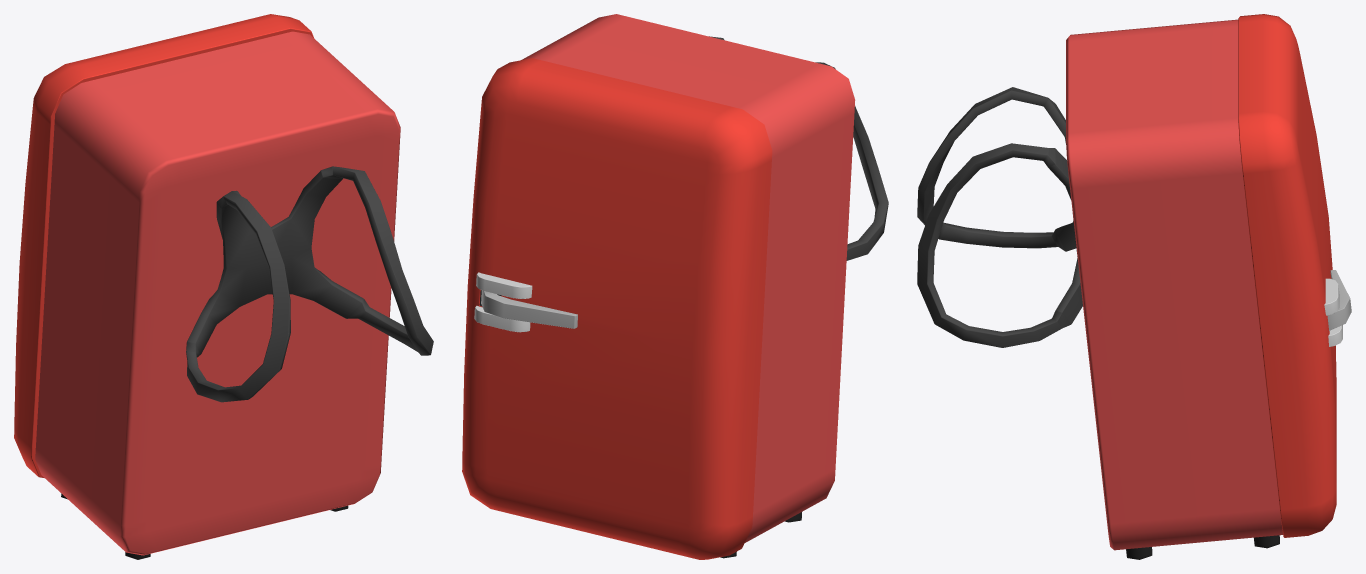
File: Backpack_021.glb
The picture shows the model from 3 angles, left to right: view 1: azimuth 30°, elevation 25°; view 2: azimuth 150°, elevation 25°; view 3: azimuth 270°, elevation 25°; orthographic projection.
Visible parts, largest first — view 1: Backpack_021; view 2: Backpack_021; view 3: Backpack_021.
Boxes of the visible parts, x1,y1,x2,y2 form: Backpack_021: (14,14,433,559); Backpack_021: (462,14,888,559); Backpack_021: (917,14,1351,559).
Bounding box in the file's own units: 0.6149 × 0.9673 × 0.8633.
Materials: 1 (1 with a texture image).
